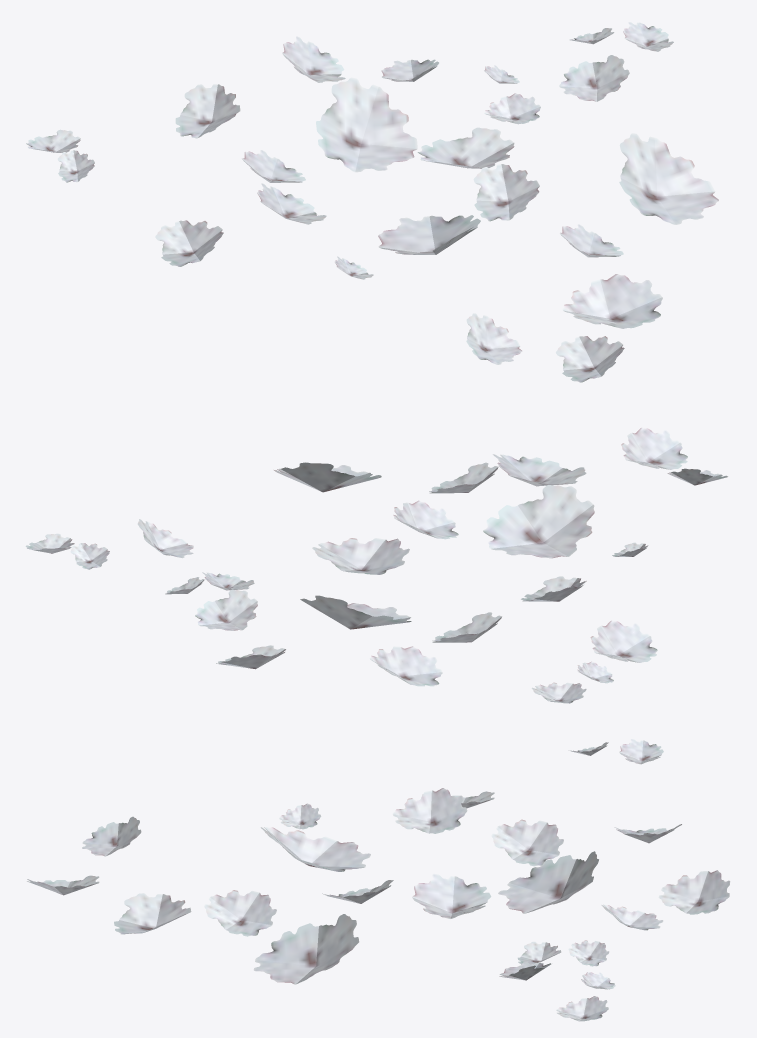
File: Flower_007.fbx
The picture shows the model from 3 angles, top to bottom: view 1: azimuth 30°, elevation 25°; view 2: azimuth 150°, elevation 25°; view 3: azimuth 270°, elevation 25°; orthographic projection. The views are drawn at different scales.
Visible parts, largest first — view 1: FlowerPatch_007; view 2: FlowerPatch_007; view 3: FlowerPatch_007.
Boxes of the visible parts, <box> form: FlowerPatch_007: <box>26,22,718,382</box>; FlowerPatch_007: <box>25,427,727,703</box>; FlowerPatch_007: <box>27,739,730,1021</box>.
Bounding box in the file's own units: 119 × 16.28 × 132.
